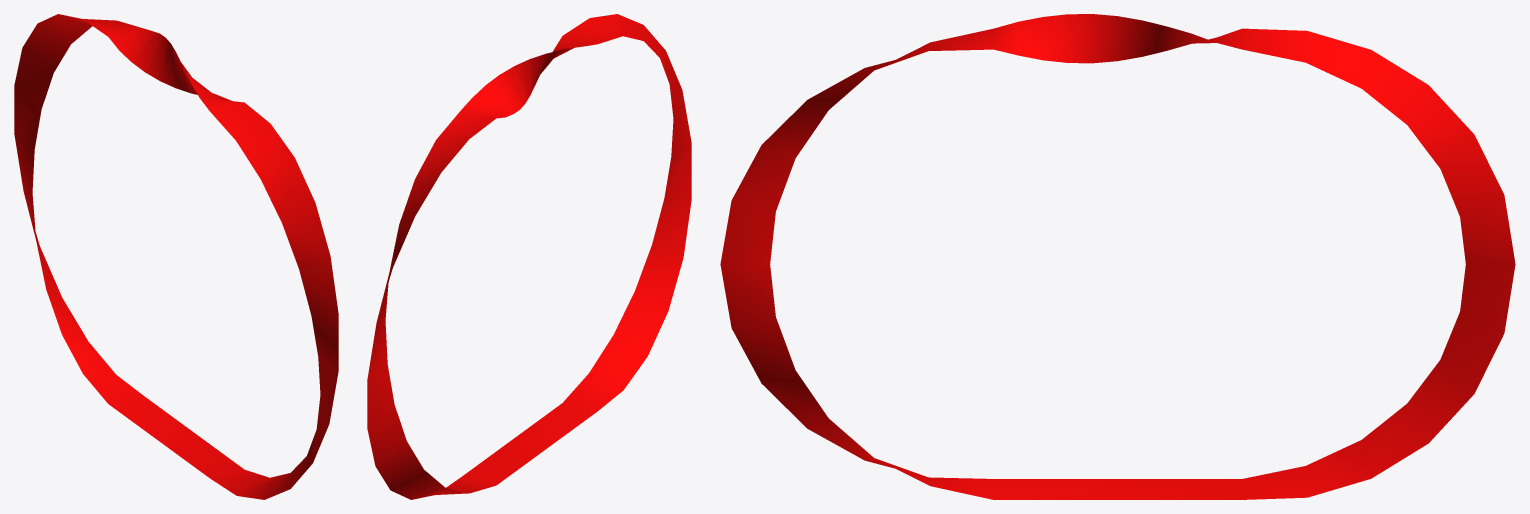
The model's file is Mobius.dae.
The picture shows the model from 3 angles, left to right: view 1: azimuth 30°, elevation 25°; view 2: azimuth 150°, elevation 25°; view 3: azimuth 270°, elevation 25°; orthographic projection. The views are drawn at different scales.
Visible parts, largest first — view 1: SketchUp; view 2: SketchUp; view 3: SketchUp.
Part boxes in pixels (<box>): SketchUp: <box>14,14,338,499</box>; SketchUp: <box>367,14,691,499</box>; SketchUp: <box>720,14,1515,499</box>.
Bounding box in the file's own units: 7.87 × 126 × 82.68.
